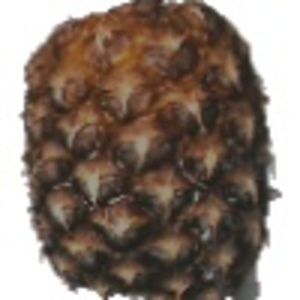abacaxi: (15, 4, 285, 298)
